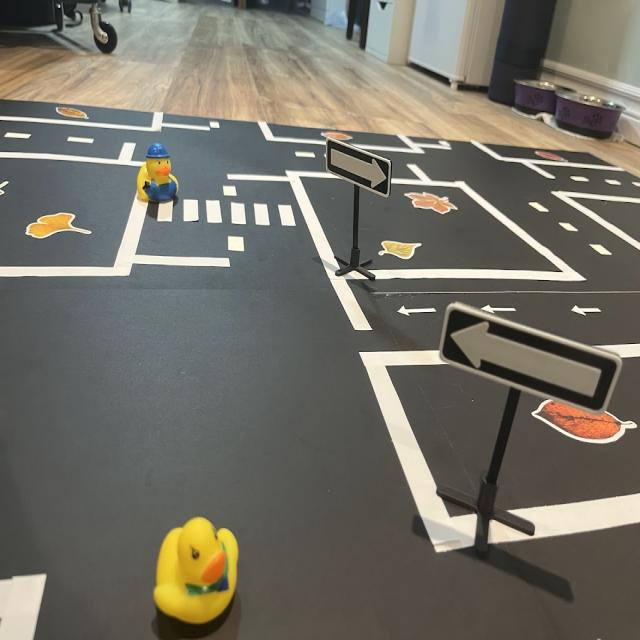duck_regular: (155, 518, 239, 618)
duck_specialty: (135, 138, 184, 204)
road_crosswalk: (154, 189, 304, 233)
road_oneway: (397, 301, 440, 318), (566, 303, 609, 318), (480, 304, 522, 316)
sign_oneway_left: (440, 303, 618, 412)
sign_oneway_right: (326, 142, 395, 200)
